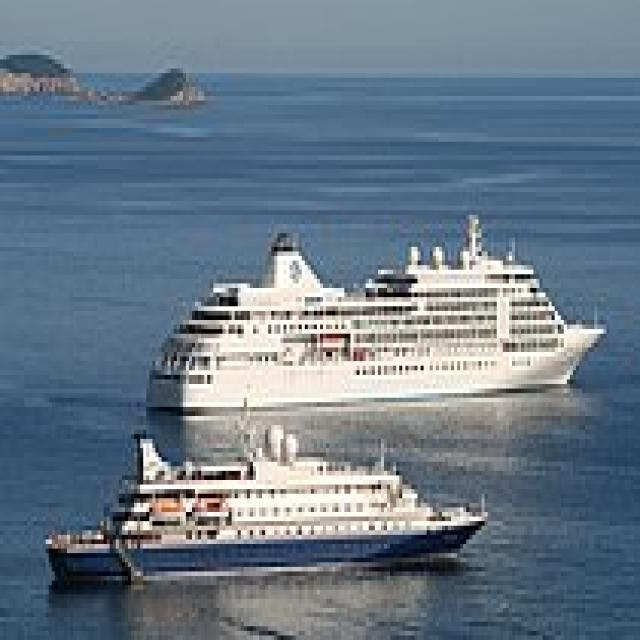Cruise: (144, 206, 606, 416), (36, 389, 488, 585)
